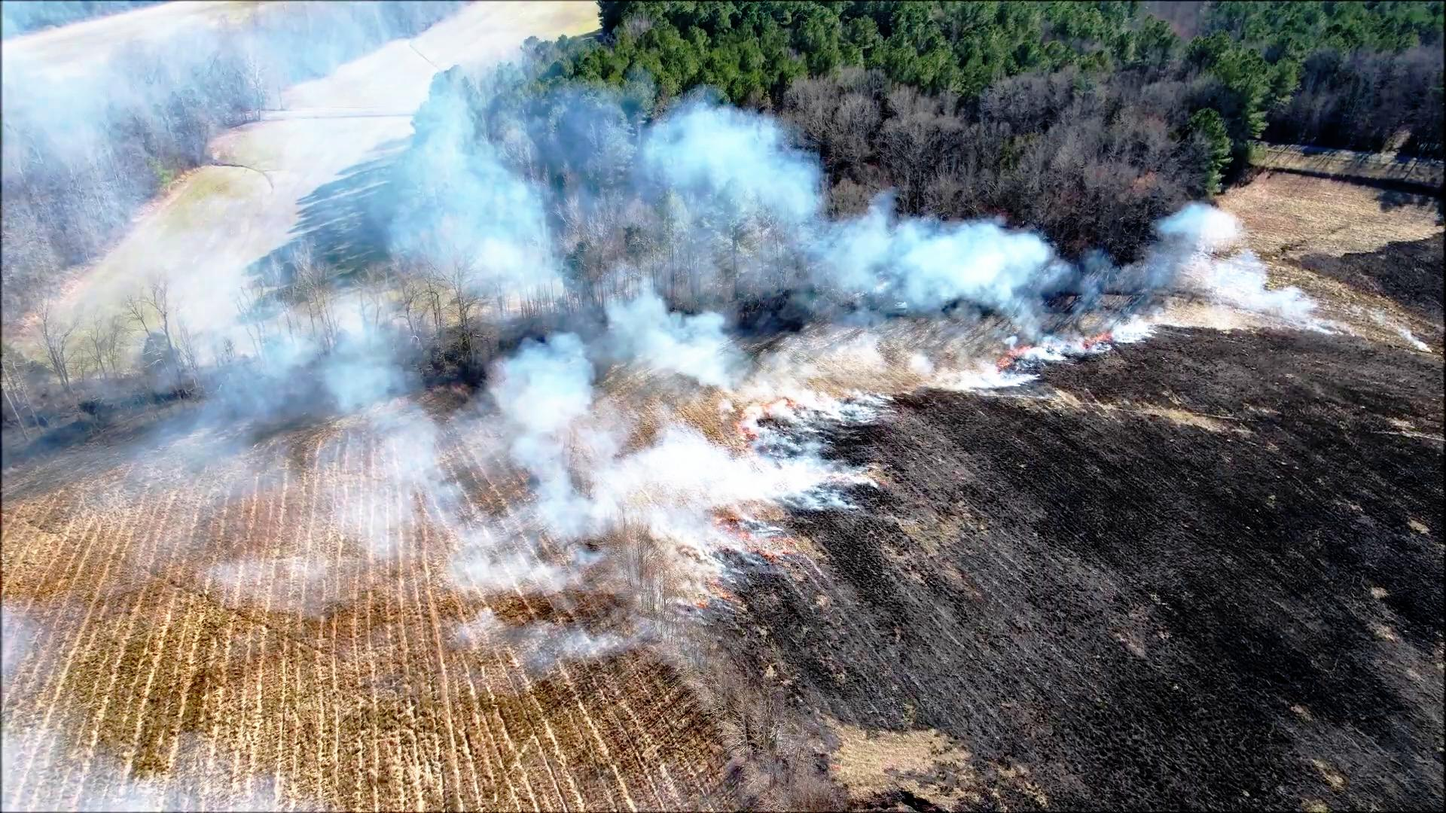smoke: (659, 109, 1077, 376), (490, 339, 851, 557), (218, 305, 482, 587), (380, 98, 580, 316), (1149, 199, 1326, 361)
